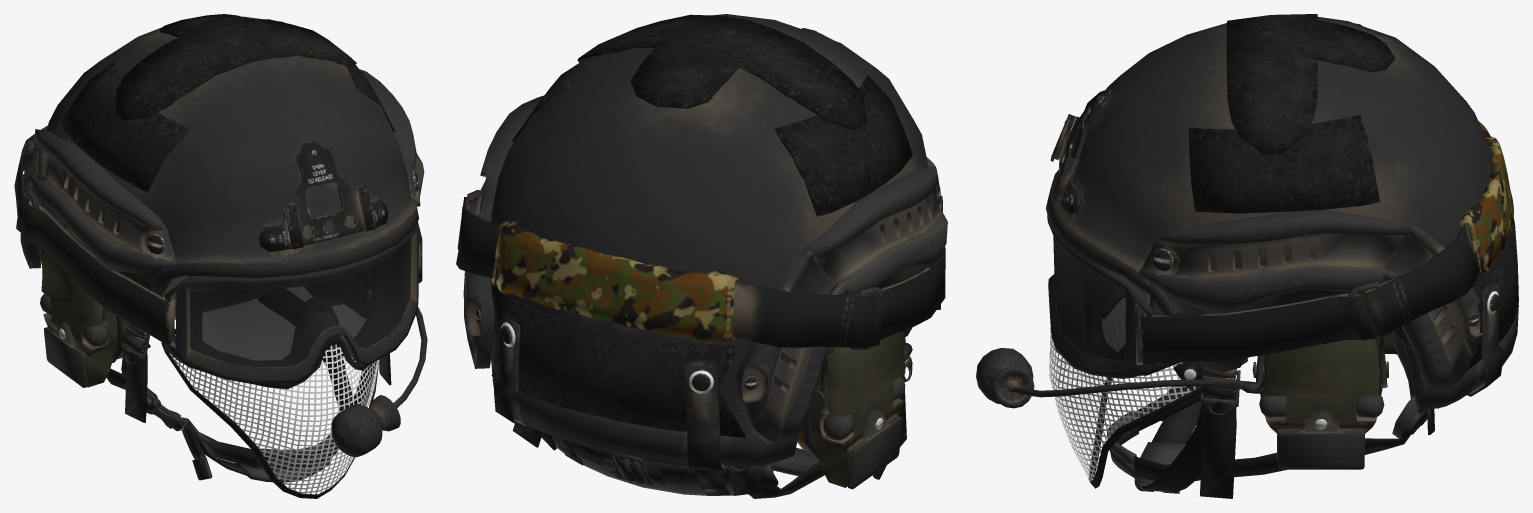
Rendered from helmet.glb.
The picture shows the model from 3 angles, left to right: view 1: azimuth 30°, elevation 25°; view 2: azimuth 150°, elevation 25°; view 3: azimuth 270°, elevation 25°; orthographic projection. The views are drawn at different scales.
Parts seen in each view (by area): view 1: Final_Helmet Base_0, Final_Glasses_0, Final_Mask_0; view 2: Final_Helmet Base_0; view 3: Final_Helmet Base_0, Final_Glasses_0, Final_Mask_0.
Part boxes in pixels (x1,y1,x2,y2): Final_Helmet Base_0: (14,14,427,498); Final_Glasses_0: (189,237,411,367); Final_Mask_0: (172,334,379,494); Final_Helmet Base_0: (456,14,947,498); Final_Helmet Base_0: (976,14,1518,498); Final_Glasses_0: (1053,236,1125,360); Final_Mask_0: (1049,301,1195,481).
Size of the model in its own units: 50.01 by 55.63 by 60.96.
3 materials, 2 textured.
